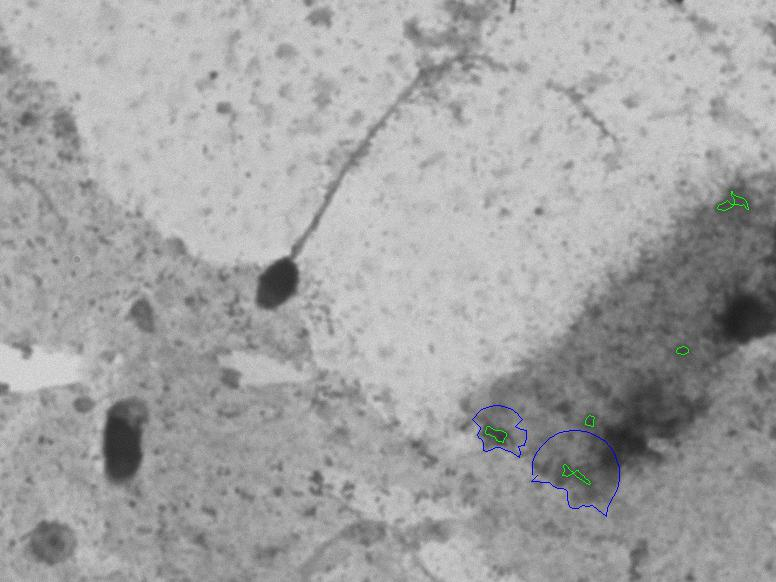Abnormal: (236, 32, 528, 342)
